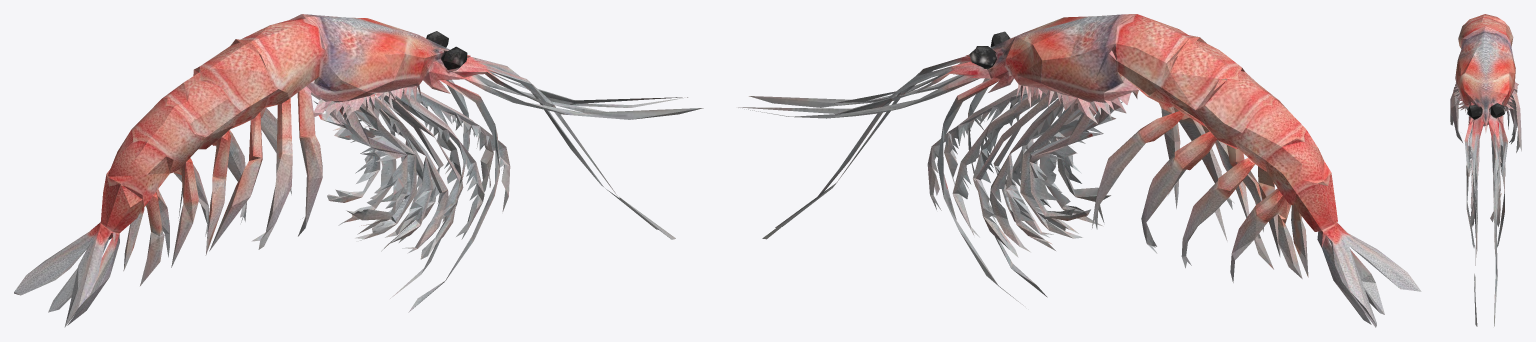
Rendered from Krill.fbx.
3 views of the same model, side by side, from view 1: azimuth 30°, elevation 25°; view 2: azimuth 150°, elevation 25°; view 3: azimuth 270°, elevation 25° (orthographic). The views are drawn at different scales.
Parts seen in each view (by area): view 1: Krill; view 2: Krill; view 3: Krill.
Boxes of the visible parts, x1,y1,x2,y2 form: Krill: (14,14,703,327); Krill: (738,14,1421,327); Krill: (1450,14,1521,326).
Size of the model in its own units: 0.12 by 0.0542 by 0.018.
Materials: 1 (1 with a texture image).
